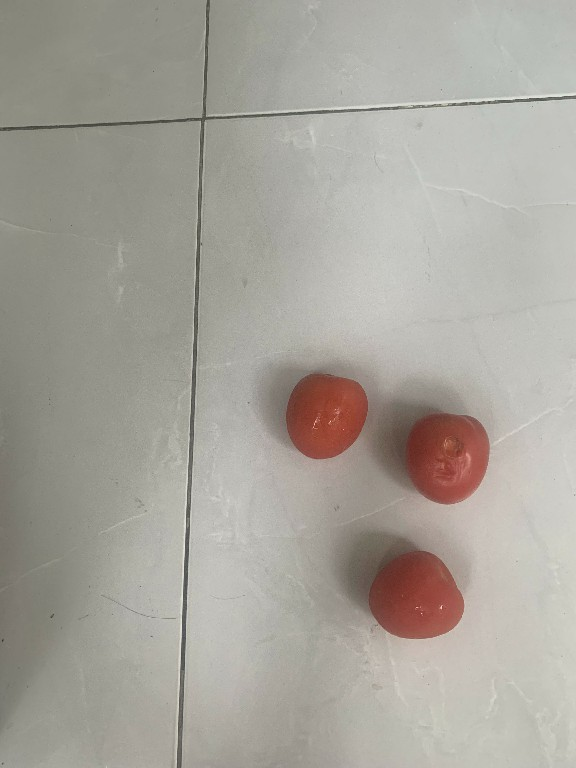NG: (397, 405, 491, 506)
OK: (366, 543, 471, 647), (278, 358, 369, 464)
